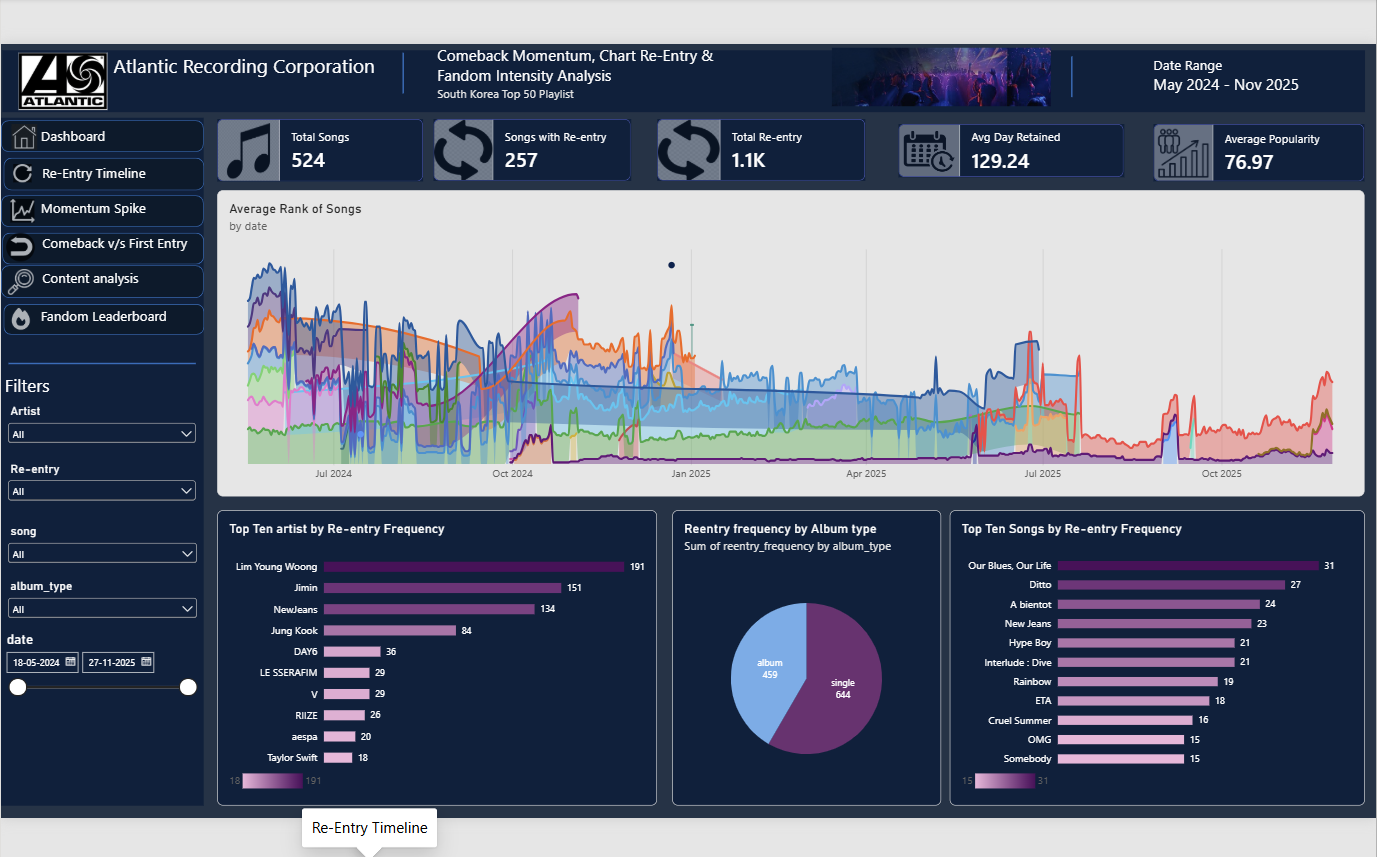

Layout of this report page (visuals, bound fields, positions):
{"tool":"powerbi","page":{"name":"Dashboard","canvas":[1920,1080],"ordinal":0},"visuals":[{"type":"actionButton","box":[322.7,565.1,772.7,132.6],"z":0},{"type":"shape","box":[0,102.9,282.9,960],"z":1000},{"type":"slicer","fields":{"Values":["Atlantic_South_Korea_data_processed.artist"]},"box":[10.3,526.9,271.4,94.3],"z":2000},{"type":"slicer","fields":{"Values":["Atlantic_South_Korea_data_processed.date"]},"box":[4.1,895.4,277.1,145.7],"z":3000},{"type":"slicer","fields":{"Values":["Atlantic_South_Korea_data_processed.song"]},"box":[6.2,703.9,272.9,77.1],"z":4000},{"type":"slicer","fields":{"Values":["Atlantic_South_Korea_data_processed.re_entry"]},"box":[10.3,621.6,271.4,77.1],"z":5000},{"type":"cardVisual","fields":{"Data":["Avg(Atlantic_South_Korea_data_processed.days_retained)"]},"box":[1250.6,102.9,326.2,89],"z":6000},{"type":"cardVisual","fields":{"Data":["Count(Atlantic_South_Korea_data_processed.song)"]},"box":[302.1,105,287.1,87.1],"z":7000},{"type":"cardVisual","fields":{"Data":["Sum(Reentry_Frequency.reentry_frequency)"]},"box":[594.8,102.9,275.6,89],"z":8000},{"type":"cardVisual","fields":{"Data":["Avg(Atlantic_South_Korea_data_processed.momentum_intensity_score)"]},"box":[887.8,104.7,347.1,87.2],"z":9000},{"type":"cardVisual","fields":{"Data":["Avg(Atlantic_South_Korea_data_processed.popularity)"]},"box":[1608.1,102.9,293,89],"z":10000},{"type":"slicer","fields":{"Values":["Atlantic_South_Korea_data_processed.album_type"]},"box":[8.2,794.5,272.9,72.9],"z":11000},{"type":"shape","box":[1.7,8.3,1901.7,86.7],"z":12000},{"type":"image","box":[15,11.7,141.7,80],"z":13000},{"type":"textbox","box":[156.7,11.7,406.7,80],"z":14000},{"type":"shape","box":[533.3,11.7,55,56.7],"z":15000},{"type":"shape","box":[1480,18,26.7,56.7],"z":16000},{"type":"textbox","box":[608.3,0,420,86.7],"z":17000},{"type":"textbox","box":[1608.3,15,260,71.7],"z":18000},{"type":"image","box":[1076.7,5,471.7,81.7],"z":19000},{"type":"shape","box":[0,105.7,282.9,44.3],"z":20000},{"type":"image","box":[1.2,111.2,61.2,36.2],"z":21000},{"type":"textbox","box":[55.7,115.7,202.9,34.3],"z":22000},{"type":"shape","box":[2.9,158.6,280,45.7],"z":23000},{"type":"shape","box":[0,211.4,282.9,44.3],"z":24000},{"type":"shape","box":[1.4,262.9,281.4,44.3],"z":25000},{"type":"shape","box":[0,308.6,282.9,45.7],"z":26000},{"type":"image","box":[2.9,167.1,52.9,25.7],"z":27000},{"type":"image","box":[2.9,215.7,52.9,32.9],"z":28000},{"type":"image","box":[0,262.9,55,40],"z":29000},{"type":"image","box":[0,314.3,55,36.2],"z":30000},{"type":"textbox","box":[55.8,167.4,202.3,36.6],"z":31000},{"type":"textbox","box":[55.7,215.7,202.3,36.6],"z":32000},{"type":"textbox","box":[57.1,271.4,219.8,36.6],"z":33000},{"type":"textbox","box":[57.5,313.8,202.3,36.6],"z":34000},{"type":"shape","box":[2.9,362.9,280,42.9],"z":35000},{"type":"image","box":[0,366.2,55,36.2],"z":36000},{"type":"textbox","box":[55,366.2,205,36.2],"z":37000},{"type":"textbox","box":[5.7,460,277.1,32.9],"z":38000},{"type":"shape","box":[10,430,261.4,30],"z":39000},{"type":"textbox","box":[322.7,476.2,516.3,64.5],"z":40000},{"type":"textbox","box":[462.2,575.6,552.9,113.4],"z":41000},{"type":"actionButton","box":[315.7,715.1,779.7,132.6],"z":42000},{"type":"actionButton","box":[315.7,868.6,1552.3,132.6],"z":43000},{"type":"actionButton","box":[1116.3,565.1,751.7,132.6],"z":44000},{"type":"actionButton","box":[1116.3,715.1,751.7,132.6],"z":45000},{"type":"image","box":[308.7,715.1,158.7,132.6],"z":46000},{"type":"image","box":[315.7,886,130.8,95.9],"z":47000},{"type":"image","box":[322.7,575.6,130.8,95.9],"z":48000},{"type":"image","box":[1116.3,715.1,130.8,122.1],"z":49000},{"type":"textbox","box":[481.4,706.4,287,150],"z":50000},{"type":"textbox","box":[462.2,725.6,532,122.1],"z":51000},{"type":"textbox","box":[1247.1,582.6,545.9,95.9],"z":52000},{"type":"textbox","box":[1247.1,720.4,587.8,123.8],"z":53000},{"type":"textbox","box":[462.2,879.1,1109.3,122.1],"z":54000},{"type":"image","box":[1116.3,582.6,130.8,95.9],"z":55000},{"type":"barChart","title":"Top Ten Songs by Re-entry Frequency","fields":{"Category":["Reentry_Frequency.song"],"Y":["Sum(Reentry_Frequency.reentry_frequency)"]},"box":[308.7,211,786.6,265.1],"z":56000},{"type":"clusteredBarChart","fields":{"Category":["Fandom_Engagement_Proxy_Top50.song"],"Y":["Sum(Fandom_Engagement_Proxy_Top50.fandom_engagement_proxy)"]},"box":[1125,211,743,265.1],"z":57000}]}

Visuals, with their boxes on the page's 1920x1080 design canvas (x1, y1, x2, y2). These are canvas units, not pixel positions in the 1377x857 screenshot, which may show the page scaled, cropped or inside an application window:
actionButton: 323, 565, 1095, 698
shape: 0, 103, 283, 1063
slicer - Atlantic_South_Korea_data_processed.artist: 10, 527, 282, 621
slicer - Atlantic_South_Korea_data_processed.date: 4, 895, 281, 1041
slicer - Atlantic_South_Korea_data_processed.song: 6, 704, 279, 781
slicer - Atlantic_South_Korea_data_processed.re_entry: 10, 622, 282, 699
cardVisual - Avg(Atlantic_South_Korea_data_processed.days_retained): 1251, 103, 1577, 192
cardVisual - Count(Atlantic_South_Korea_data_processed.song): 302, 105, 589, 192
cardVisual - Sum(Reentry_Frequency.reentry_frequency): 595, 103, 870, 192
cardVisual - Avg(Atlantic_South_Korea_data_processed.momentum_intensity_score): 888, 105, 1235, 192
cardVisual - Avg(Atlantic_South_Korea_data_processed.popularity): 1608, 103, 1901, 192
slicer - Atlantic_South_Korea_data_processed.album_type: 8, 794, 281, 867
shape: 2, 8, 1903, 95
image: 15, 12, 157, 92
textbox: 157, 12, 563, 92
shape: 533, 12, 588, 68
shape: 1480, 18, 1507, 75
textbox: 608, 0, 1028, 87
textbox: 1608, 15, 1868, 87
image: 1077, 5, 1548, 87
shape: 0, 106, 283, 150
image: 1, 111, 62, 147
textbox: 56, 116, 259, 150
shape: 3, 159, 283, 204
shape: 0, 211, 283, 256
shape: 1, 263, 283, 307
shape: 0, 309, 283, 354
image: 3, 167, 56, 193
image: 3, 216, 56, 249
image: 0, 263, 55, 303
image: 0, 314, 55, 350
textbox: 56, 167, 258, 204
textbox: 56, 216, 258, 252
textbox: 57, 271, 277, 308
textbox: 58, 314, 260, 350
shape: 3, 363, 283, 406
image: 0, 366, 55, 402
textbox: 55, 366, 260, 402
textbox: 6, 460, 283, 493
shape: 10, 430, 271, 460
textbox: 323, 476, 839, 541
textbox: 462, 576, 1015, 689
actionButton: 316, 715, 1095, 848
actionButton: 316, 869, 1868, 1001
actionButton: 1116, 565, 1868, 698
actionButton: 1116, 715, 1868, 848
image: 309, 715, 467, 848
image: 316, 886, 446, 982
image: 323, 576, 454, 672
image: 1116, 715, 1247, 837
textbox: 481, 706, 768, 856
textbox: 462, 726, 994, 848
textbox: 1247, 583, 1793, 678
textbox: 1247, 720, 1835, 844
textbox: 462, 879, 1572, 1001
image: 1116, 583, 1247, 678
"Top Ten Songs by Re-entry Frequency" barChart: 309, 211, 1095, 476
clusteredBarChart - Fandom_Engagement_Proxy_Top50.song x Sum(Fandom_Engagement_Proxy_Top50.fandom_engagement_proxy): 1125, 211, 1868, 476
